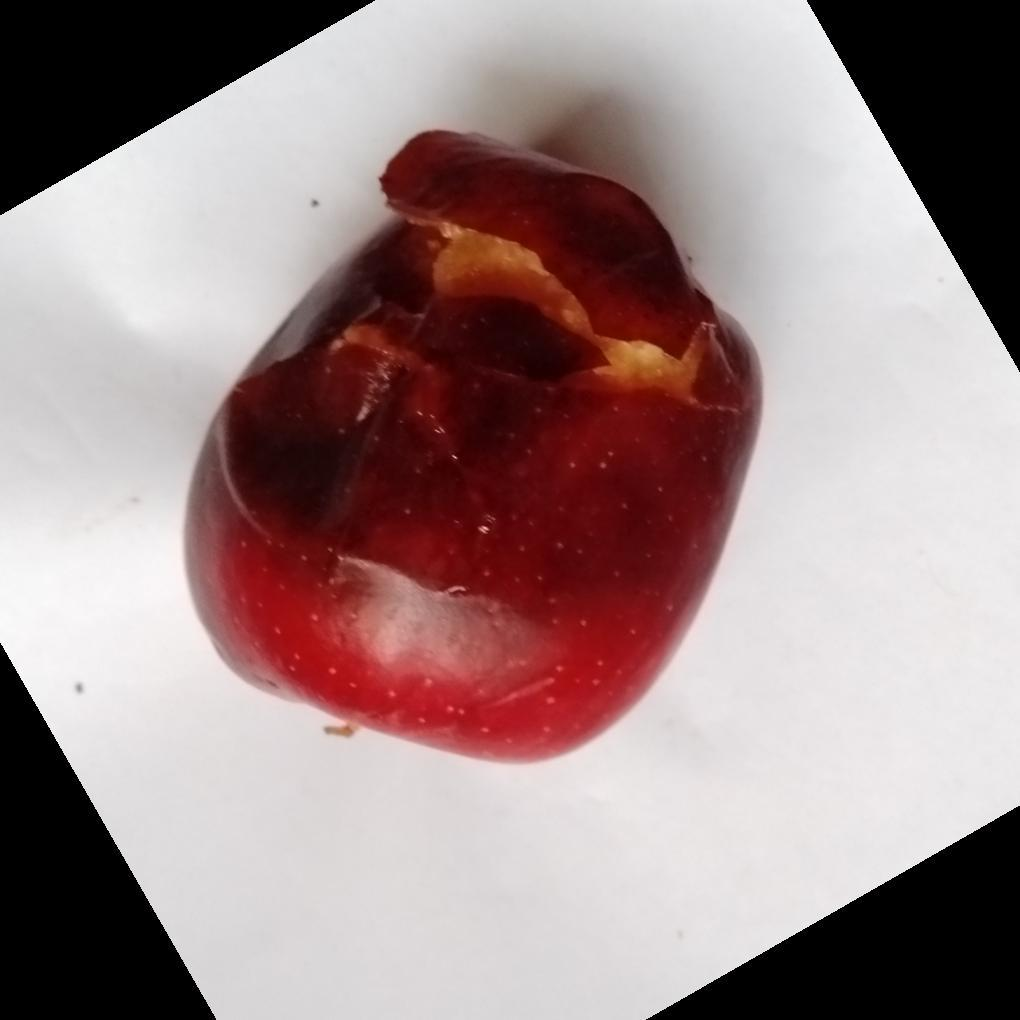FreshOrange: (182, 129, 764, 769)
